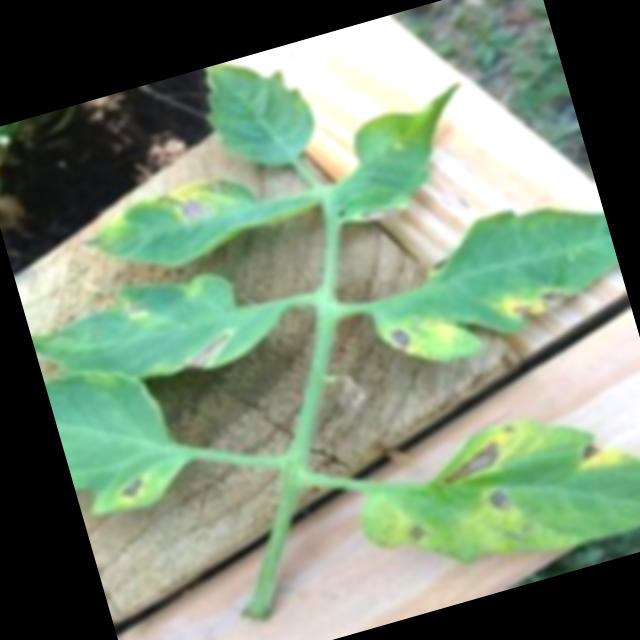Early_blight: (431, 420, 531, 488), (488, 273, 582, 330), (176, 323, 245, 379), (571, 429, 630, 476), (170, 178, 218, 225), (380, 313, 424, 358), (480, 481, 520, 517), (111, 472, 149, 506), (357, 198, 402, 223), (120, 292, 153, 320)
